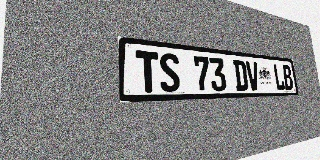3: (209, 57, 227, 91)
7: (192, 56, 212, 92)
B: (282, 65, 294, 90)
D: (233, 60, 249, 91)
L: (273, 64, 285, 90)
S: (159, 52, 181, 92)
T: (136, 50, 160, 93)
V: (245, 61, 260, 91)
